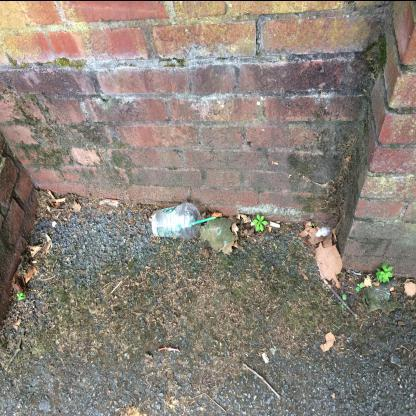plastik: (153, 202, 218, 242)
